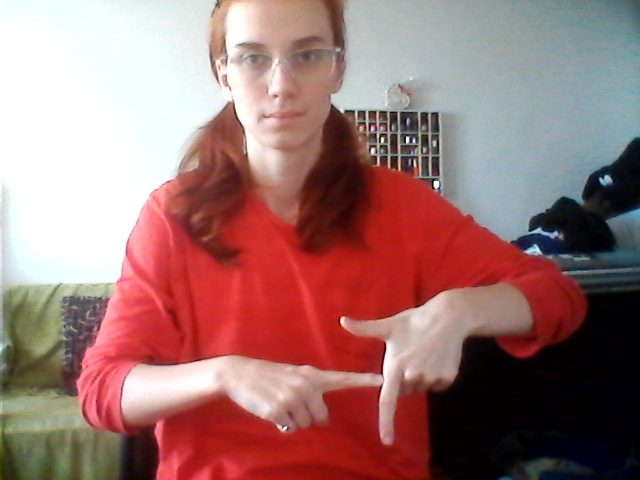f: (236, 292, 475, 454)
